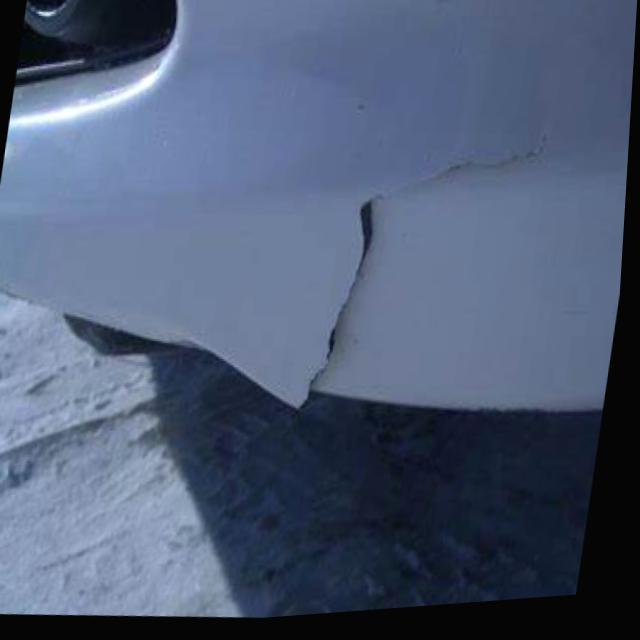Crack: (289, 135, 552, 412)
